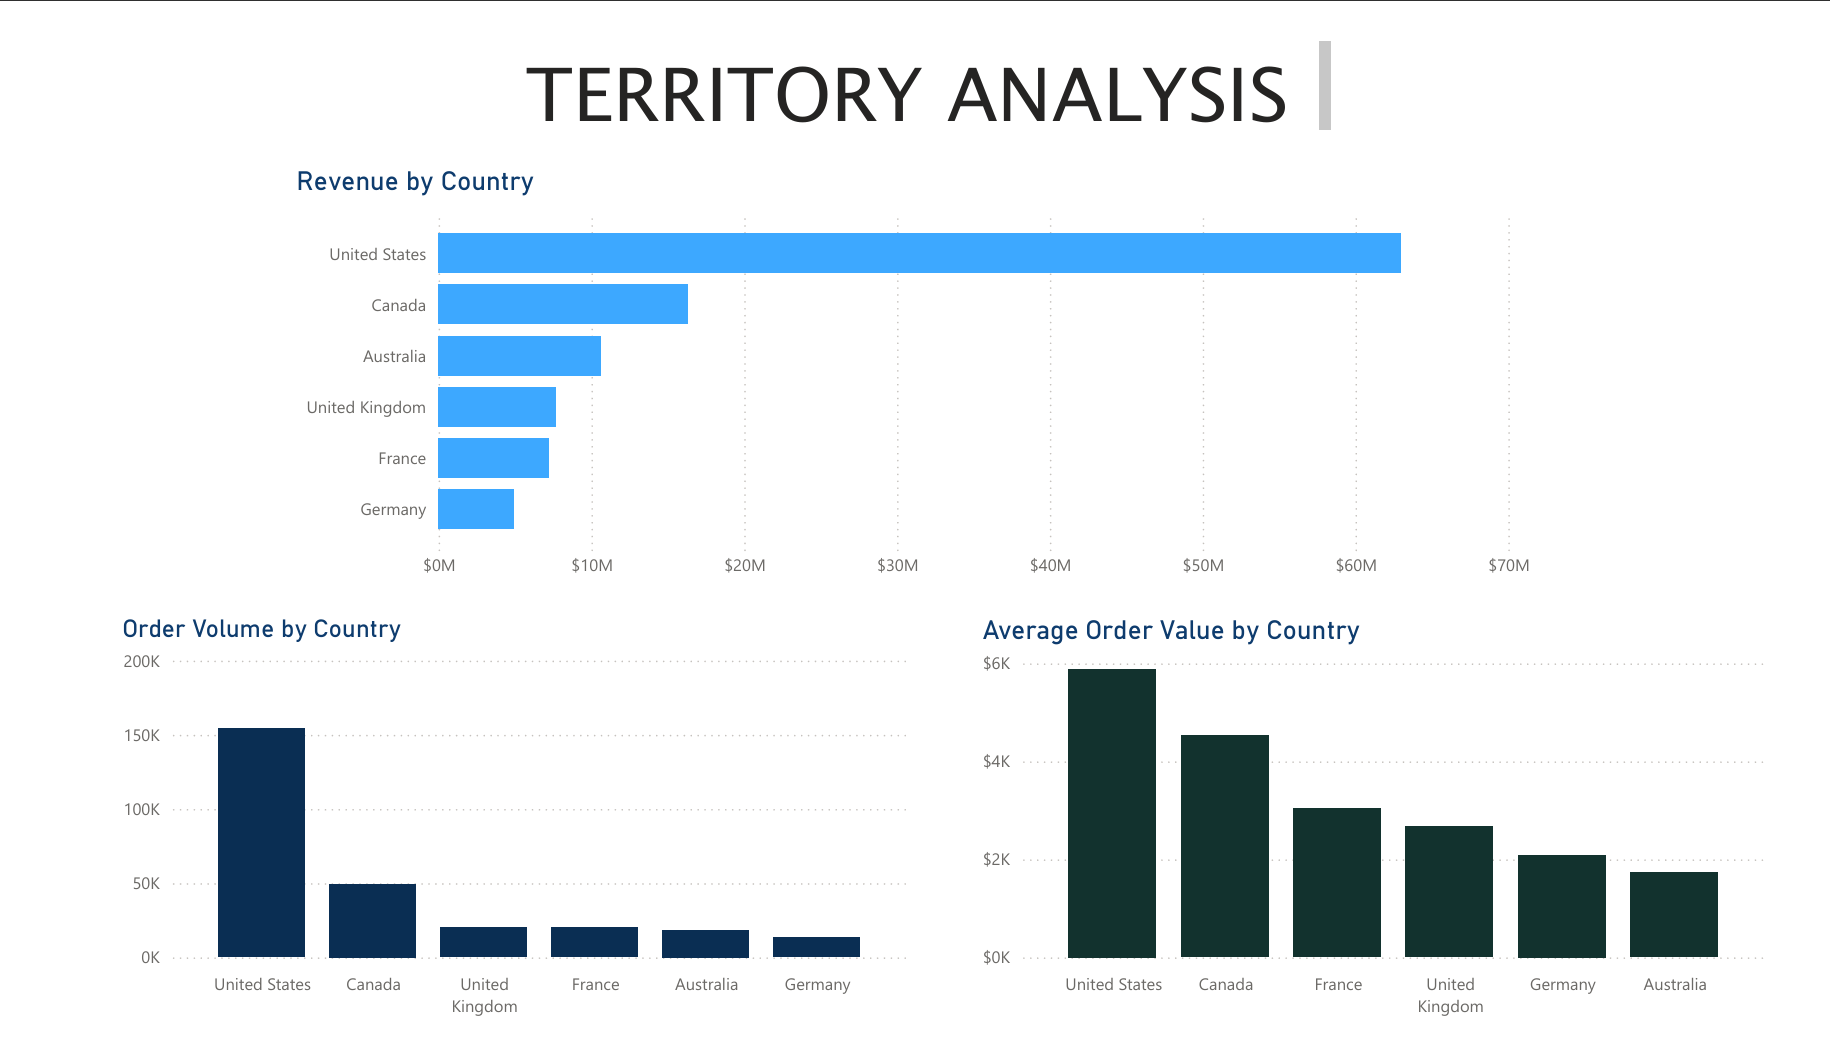

The page's visual inventory and layout, read from the dashboard file:
{"tool":"powerbi","page":{"name":"Page 4","canvas":[1280,720],"ordinal":3},"visuals":[{"type":"textbox","box":[331.7,0,615,81.7],"z":0},{"type":"barChart","title":"Revenue by Country","fields":{"Category":["AW SalesTerritory.CountryRegion.Name"],"Y":["AW SalesLine.Total Revenue"]},"box":[188.3,95,903.3,308.3],"z":1000},{"type":"clusteredColumnChart","title":"Order Volume by Country","fields":{"Category":["AW SalesTerritory.CountryRegion.Name"],"Y":["Sum(AW SalesLine.OrderQty)"]},"box":[61.7,420,578.3,300],"z":2000},{"type":"clusteredColumnChart","title":"Average Order Value by Country","fields":{"Category":["AW SalesTerritory.CountryRegion.Name"],"Y":["AW SalesHeader.Average Order Value"]},"box":[685,420,576.7,300],"z":3000}]}

Visuals, with their boxes in screenshot pixels (x1, y1, x2, y2), scaled from the page's 1280x720 canvas onto the 1830x1059 screenshot:
textbox: region(474, 0, 1353, 120)
"Revenue by Country" barChart: region(269, 140, 1561, 593)
"Order Volume by Country" clusteredColumnChart: region(88, 618, 915, 1058)
"Average Order Value by Country" clusteredColumnChart: region(979, 618, 1804, 1058)
